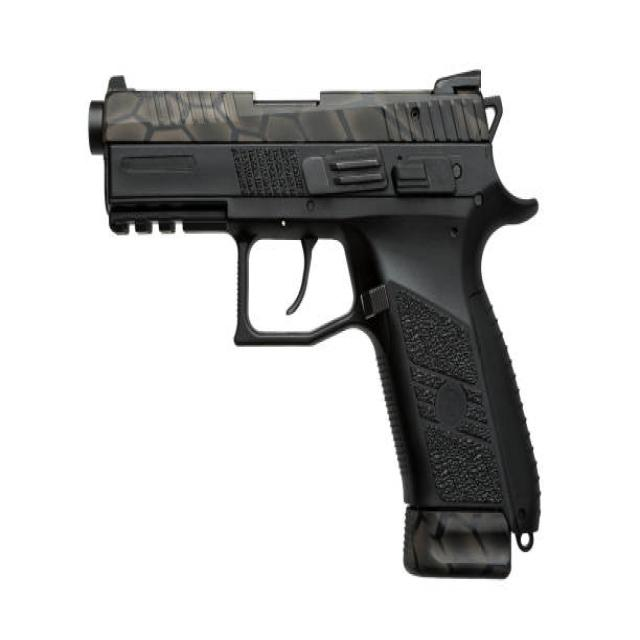pistol: (82, 62, 555, 592)
